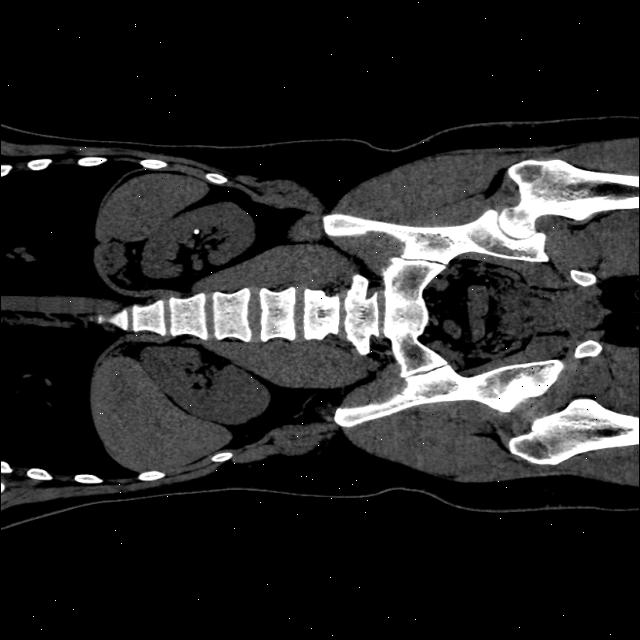kidneystone: (193, 228, 200, 234)
